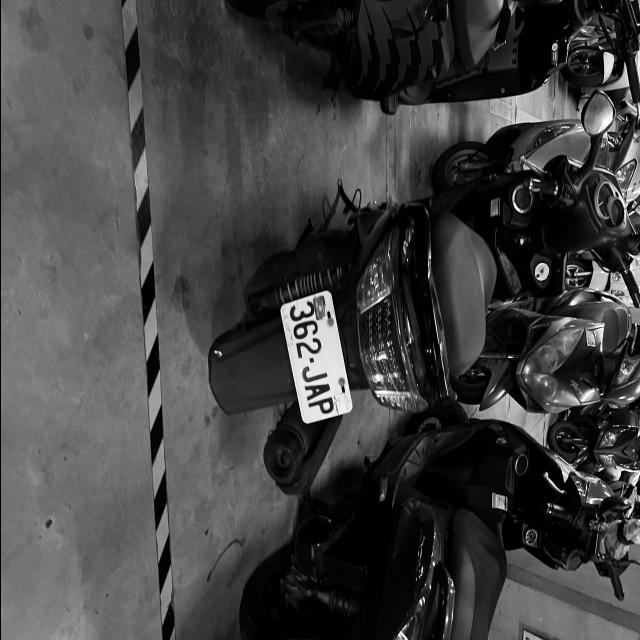-: (308, 356, 314, 364)
2: (294, 335, 322, 359)
3: (287, 301, 315, 324)
6: (291, 318, 319, 341)
A: (303, 382, 332, 403)
J: (300, 365, 328, 385)
P: (306, 396, 336, 418)
plate: (280, 295, 351, 425)
